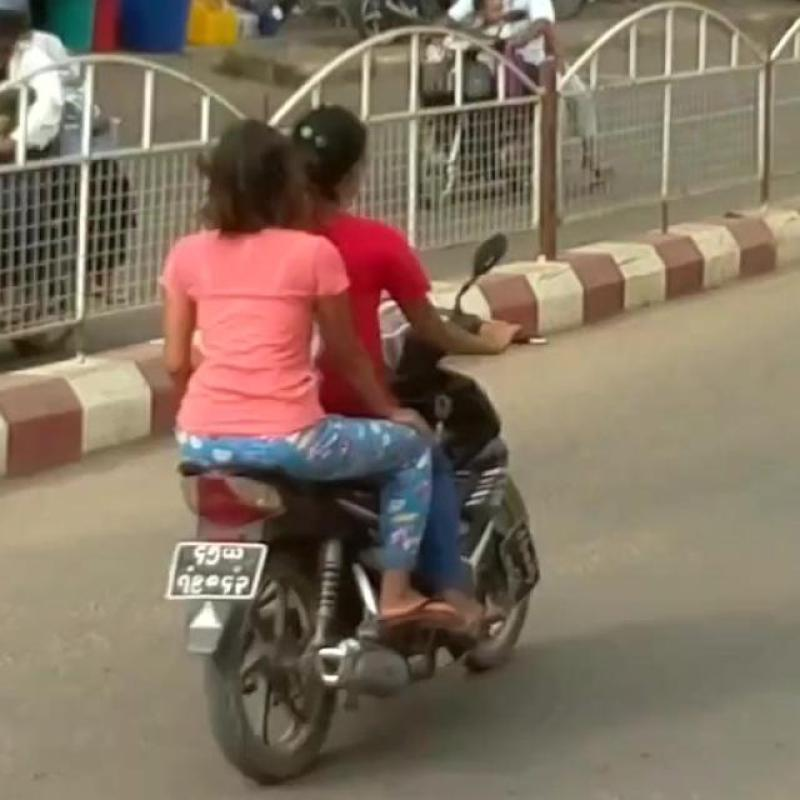nohelmet: (170, 125, 341, 264)
